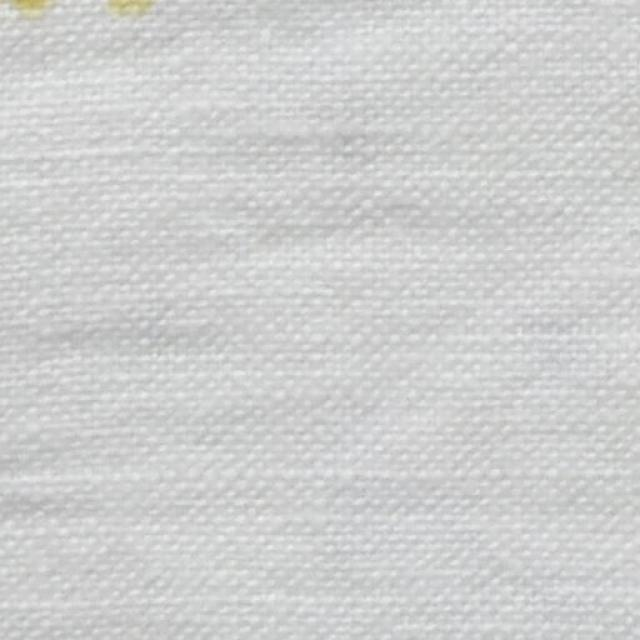Stain: (0, 1, 55, 15), (108, 0, 153, 14)
